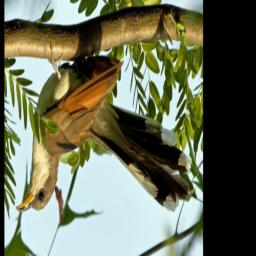Cuckoo: (16, 52, 192, 213)
